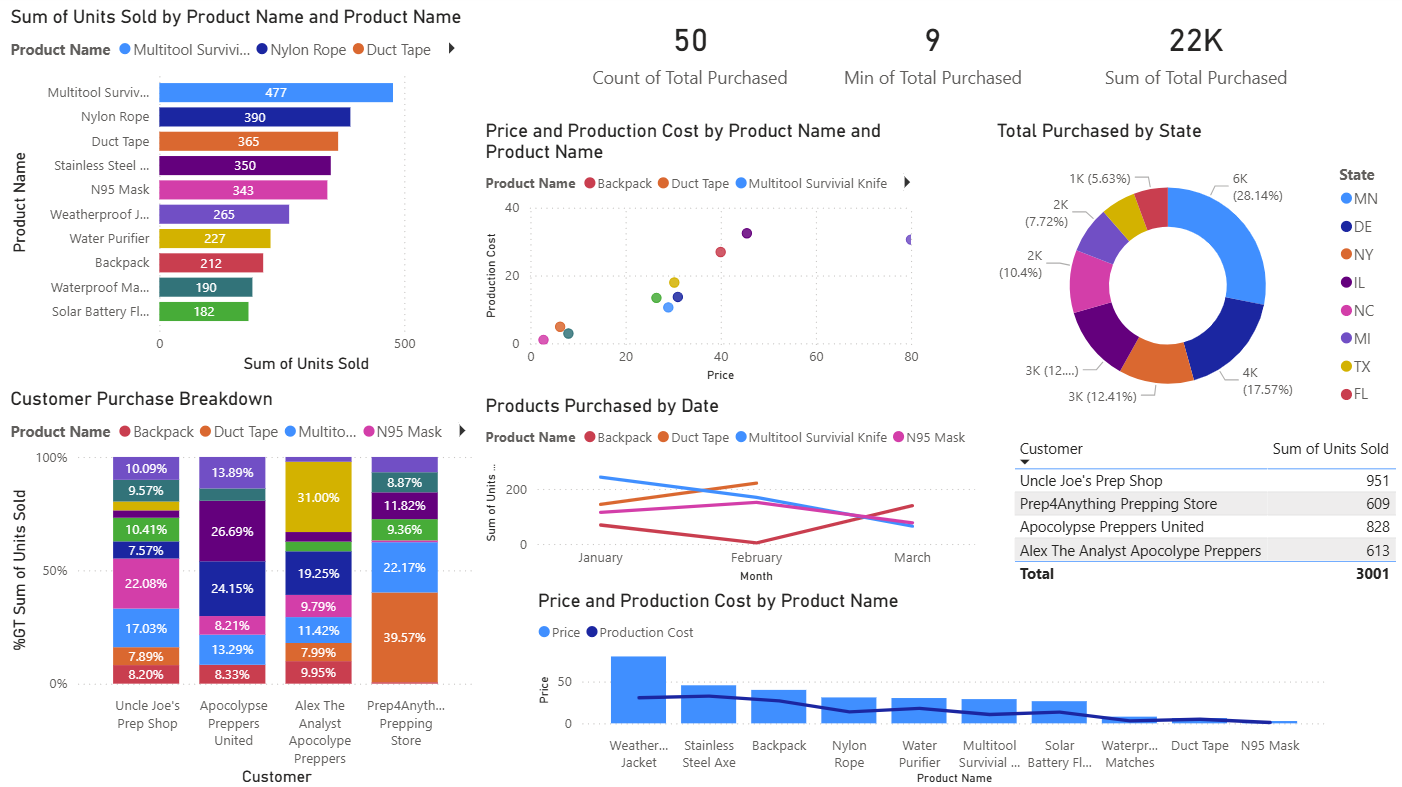

Layout of this report page (visuals, bound fields, positions):
{"tool":"powerbi","page":{"name":"Page 1","canvas":[1280,720],"ordinal":0},"visuals":[{"type":"barChart","fields":{"Category":["Apocolypse Store.Product Name"],"Y":["Sum(Apocolypse Sales.Units Sold)"],"Series":["Apocolypse Store.Product Name"]},"box":[8.6,9.8,420.7,337.5],"z":0},{"type":"hundredPercentStackedColumnChart","title":"Customer Purchase Breakdown","fields":{"Category":["Customer Information.Customer"],"Y":["Divide(Sum(Apocolypse Sales.Units Sold), ScopedEval(Sum(Apocolypse Sales.Units Sold), []))"],"Series":["Apocolypse Store.Product Name"]},"box":[8.6,355.8,430.4,364.4],"z":1000},{"type":"lineChart","title":"Products Purchased by Date","fields":{"Category":["Apocolypse Sales.Date Purchased.Variation.Date Hierarchy.Month","Apocolypse Sales.Date Purchased.Variation.Date Hierarchy.Day"],"Y":["Sum(Apocolypse Sales.Units Sold)"],"Series":["Apocolypse Store.Product Name"]},"box":[439.1,362.3,452.8,175.6],"z":2000},{"type":"lineStackedColumnComboChart","fields":{"Y":["Avg(Apocolypse Store.Price)"],"Category":["Apocolypse Store.Product Name"],"Y2":["Avg(Apocolypse Store.Production Cost)"]},"box":[485.8,537.9,723.2,182.5],"z":3000},{"type":"scatterChart","fields":{"X":["Sum(Apocolypse Store.Price)"],"Y":["Sum(Apocolypse Store.Production Cost)"],"Category":["Apocolypse Store.Product Name"],"Series":["Apocolypse Store.Product Name"]},"box":[439.1,112.5,402.1,242.9],"z":4000},{"type":"donutChart","fields":{"Category":["Customer Buyer Information.State"],"Y":["Sum(Customer Buyer Information.Total Purchased)"]},"box":[901.5,112.5,371.9,282.7],"z":5000},{"type":"card","fields":{"Values":["Sum(Customer Buyer Information.Total Purchased)"]},"box":[989.4,0,194.9,101.5],"z":6000},{"type":"card","fields":{"Values":["Min(Customer Buyer Information.Total Purchased)"]},"box":[749.2,0,197.6,101.5],"z":7000},{"type":"card","fields":{"Values":["CountNonNull(Customer Buyer Information.Total Purchased)"]},"box":[521.4,0,215.4,101.5],"z":8000},{"type":"tableEx","fields":{"Values":["Customer Information.Customer","Sum(Apocolypse Sales.Units Sold)"]},"box":[915.3,395.2,358.1,160.5],"z":9000}]}

Visuals, with their boxes in screenshot pixels (x1, y1, x2, y2), scaled from the page's 1280x720 canvas onto the 1402x787 screenshot:
barChart - Apocolypse Store.Product Name x Sum(Apocolypse Sales.Units Sold): [9, 11, 470, 380]
"Customer Purchase Breakdown" hundredPercentStackedColumnChart: [9, 389, 481, 786]
"Products Purchased by Date" lineChart: [481, 396, 977, 588]
lineStackedColumnComboChart - Avg(Apocolypse Store.Price) x Apocolypse Store.Product Name: [532, 588, 1324, 786]
scatterChart - Sum(Apocolypse Store.Price) x Sum(Apocolypse Store.Production Cost): [481, 123, 921, 388]
donutChart - Customer Buyer Information.State x Sum(Customer Buyer Information.Total Purchased): [987, 123, 1395, 432]
card - Sum(Customer Buyer Information.Total Purchased): [1084, 0, 1297, 111]
card - Min(Customer Buyer Information.Total Purchased): [821, 0, 1037, 111]
card - CountNonNull(Customer Buyer Information.Total Purchased): [571, 0, 807, 111]
tableEx - Customer Information.Customer x Sum(Apocolypse Sales.Units Sold): [1003, 432, 1395, 607]
